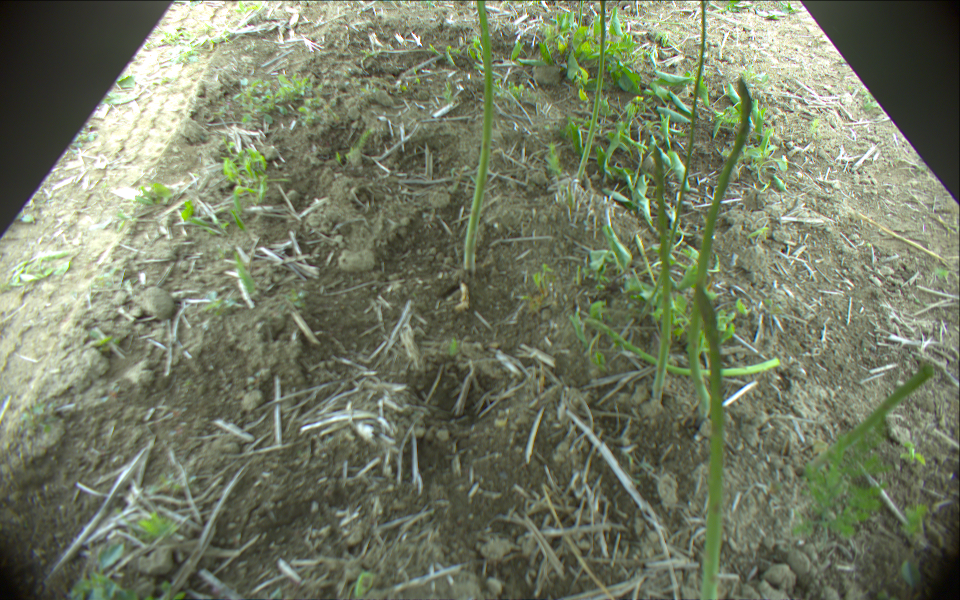aspa: (688, 76, 754, 419), (642, 1, 707, 308), (804, 361, 935, 482), (581, 316, 780, 380), (463, 1, 493, 274), (650, 145, 673, 405), (576, 1, 608, 184)
